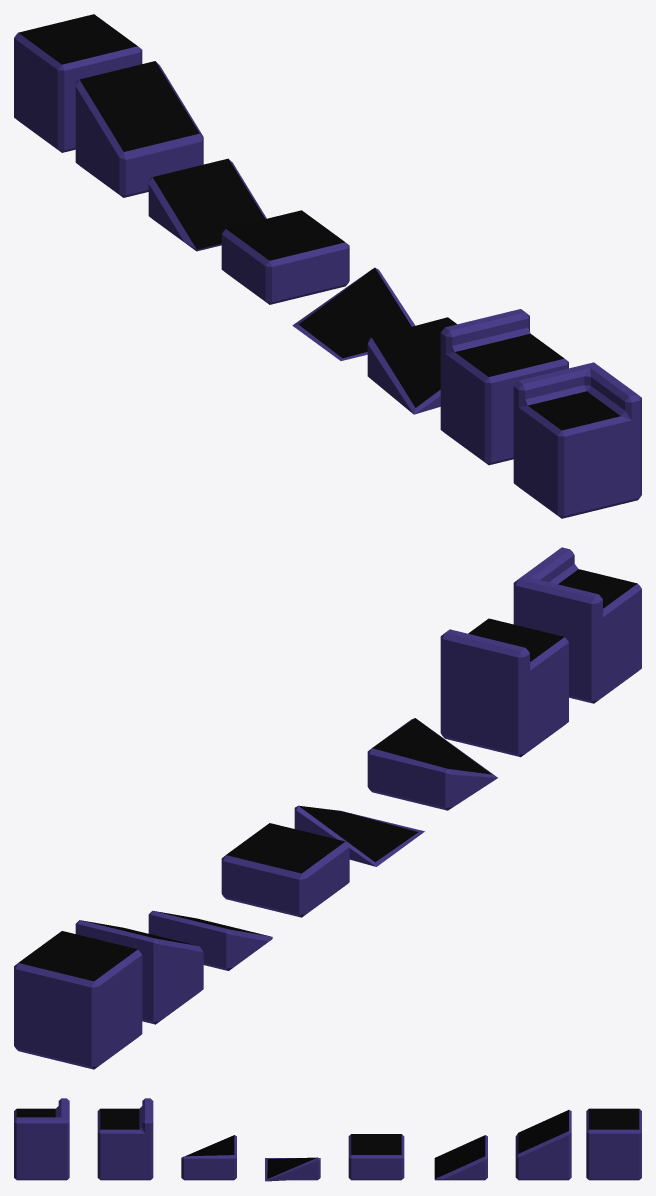
Rendered from world-blocks-v1.glb.
3 renders of one model, top to bottom at view 1: azimuth 30°, elevation 25°; view 2: azimuth 150°, elevation 25°; view 3: azimuth 270°, elevation 25°, orthographic. The views are drawn at different scales.
Parts seen in each view (by area): view 1: BlockWallCorner, RampTop, BlockWall, Block, BlockShort, RampBottom, RampCorner1, RampCorner2; view 2: BlockWall, Block, BlockWallCorner, BlockShort, RampCorner2, RampTop, RampCorner1, RampBottom; view 3: BlockWall, BlockWallCorner, Block, RampTop, BlockShort, RampCorner2, RampBottom, RampCorner1.
Part boxes in pixels (x1,y1,x2,y2): BlockWallCorner: (513,362,641,518); RampTop: (75,61,203,197); BlockWall: (440,309,568,465); Block: (14,14,142,152); BlockShort: (221,210,349,304); RampBottom: (148,158,266,251); RampCorner1: (292,267,415,360); RampCorner2: (367,317,456,414); BlockWall: (440,618,568,757); Block: (14,931,142,1069); BlockWallCorner: (513,547,641,703); BlockShort: (221,823,349,917); RampCorner2: (367,718,497,810); RampTop: (75,920,203,1024); RampCorner1: (294,805,424,866); RampBottom: (148,910,272,970); BlockWall: (97,1098,153,1180); BlockWallCorner: (14,1098,69,1180); Block: (586,1108,641,1180); RampTop: (515,1110,571,1180); BlockShort: (348,1134,404,1180); RampCorner2: (181,1135,236,1180); RampBottom: (434,1135,487,1180); RampCorner1: (265,1157,320,1181).
Size of what is drawn, in the model's own units: 2 by 2.4 by 22.53.
